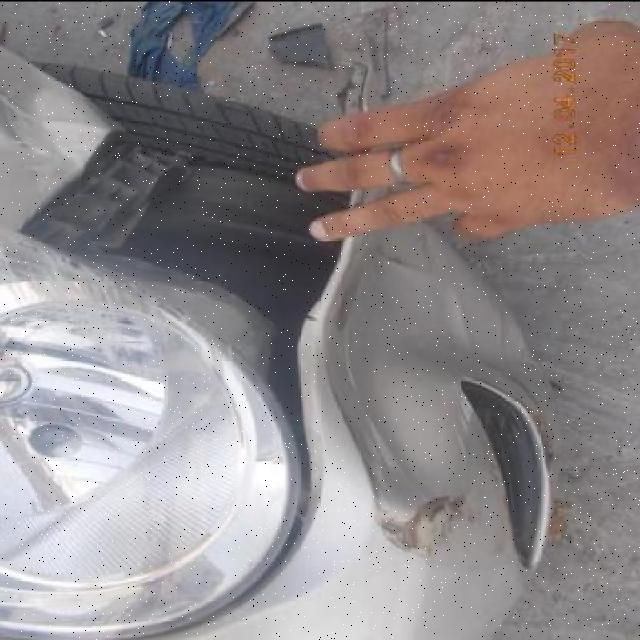damage: (21, 100, 383, 597), (3, 228, 247, 373), (5, 62, 108, 193), (470, 349, 562, 481), (375, 495, 470, 552), (346, 404, 397, 484), (330, 245, 377, 328), (337, 318, 368, 396), (449, 386, 476, 466)
